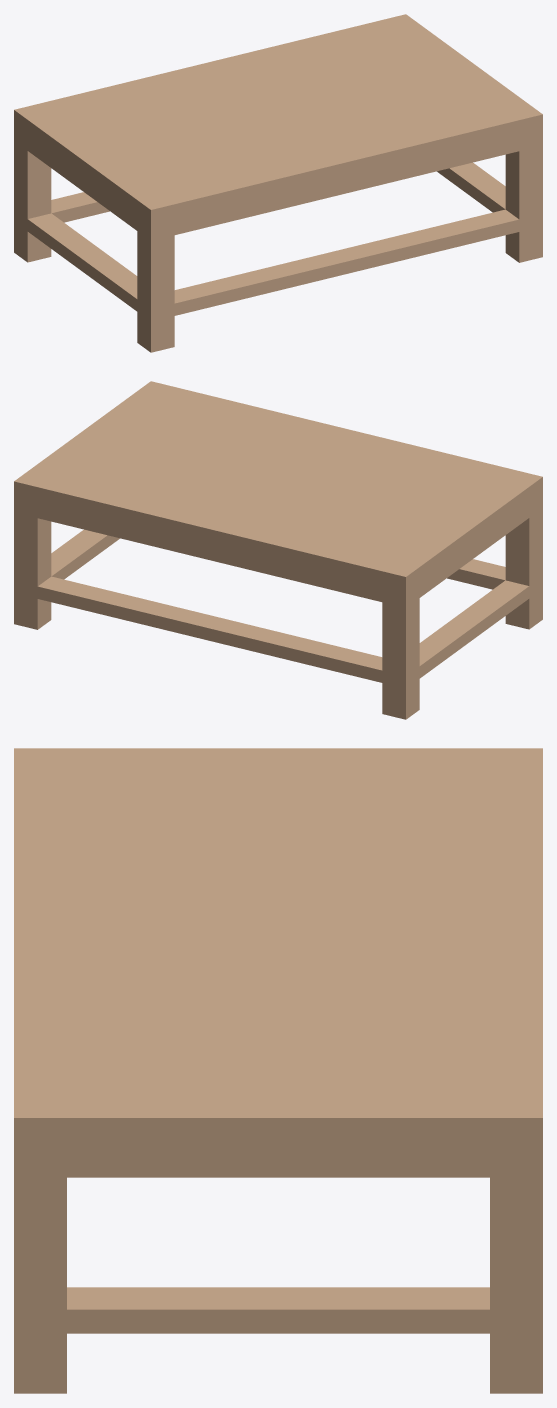
File: tableCoffee.glb
3 views of the same model, one above another, from view 1: azimuth 30°, elevation 25°; view 2: azimuth 150°, elevation 25°; view 3: azimuth 270°, elevation 25° (orthographic). The views are drawn at different scales.
Visible parts, largest first — view 1: tableCoffee; view 2: tableCoffee; view 3: tableCoffee.
Part boxes in pixels (x1,y1,x2,y2): tableCoffee: (14, 14, 542, 352); tableCoffee: (14, 381, 542, 719); tableCoffee: (14, 748, 542, 1393).
Bounding box in the file's own units: 0.661 × 0.23 × 0.4.
